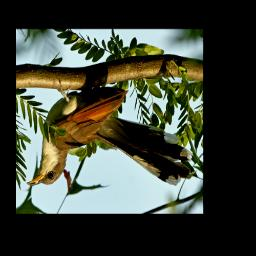Cuckoo: (27, 84, 193, 186)
